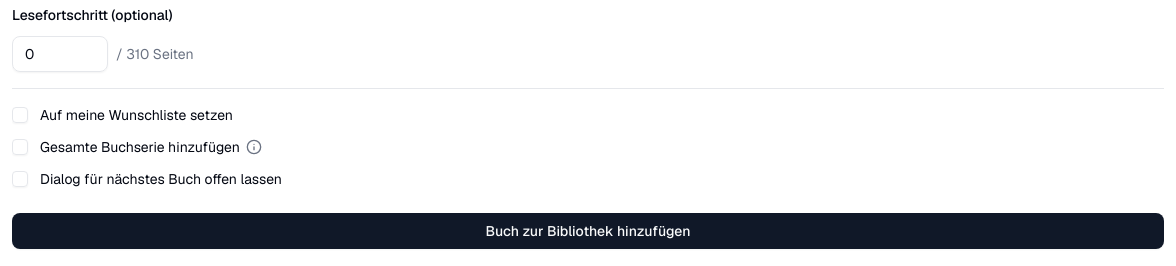
AddBookForm Component › should disable progress input when wishlist is checked
expect the number field labelled "Lesefortschritt (optional)" is enabled: met, box top-left (12, 36), bottom-right (108, 72)
# --- Check the wishlist box ---
Click the checkbox named "auf meine wunschliste setzen" next to "Auf meine Wunschliste setzen": (20, 115) top-left (12, 107), bottom-right (28, 123)
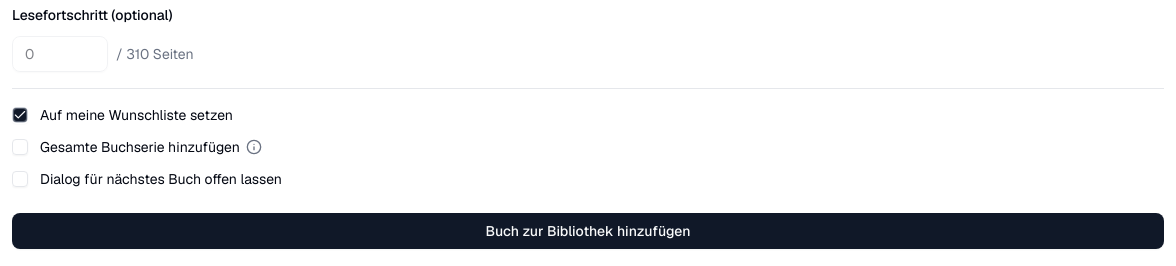
expect the number field labelled "Lesefortschritt (optional)" is disabled: met, box top-left (12, 36), bottom-right (108, 72)
